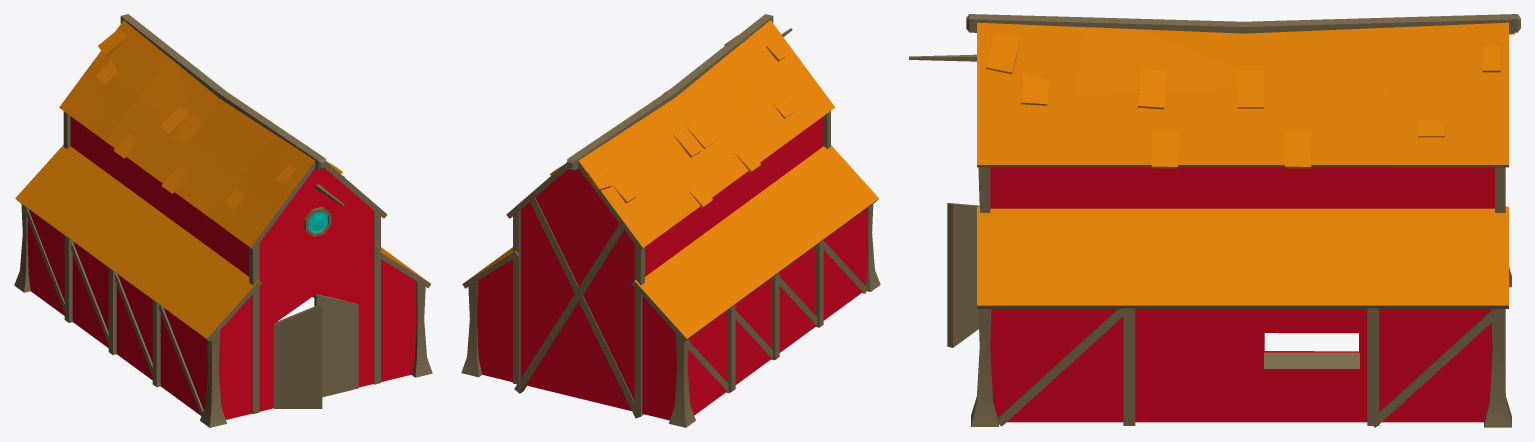
The model's file is BigBoatHouse_FBX_02.fbx.
3 views of the same model, side by side, from view 1: azimuth 30°, elevation 25°; view 2: azimuth 150°, elevation 25°; view 3: azimuth 270°, elevation 25° (orthographic). The views are drawn at different scales.
Visible parts, largest first — view 1: Intact_BoatHouse, polySurface101, polySurface102, polySurface96, polySurface99, polySurface98, polySurface103, polySurface63, polySurface73, polySurface100, polySurface75, polySurface97 (+13 smaller); view 2: Intact_BoatHouse, polySurface60, polySurface75, polySurface101, polySurface96, polySurface102, polySurface57, polySurface107, polySurface99, polySurface73, polySurface98, polySurface103 (+11 smaller); view 3: Intact_BoatHouse, polySurface87, polySurface93, polySurface91, polySurface95, polySurface71, polySurface89, polySurface92, polySurface85, polySurface90, polySurface88, polySurface86 (+9 smaller).
Boxes of the visible parts, x1,y1,x2,y2 form: Intact_BoatHouse: (14,14,432,427); polySurface101: (191,98,275,180); polySurface102: (155,138,239,217); polySurface96: (59,60,138,140); polySurface99: (105,96,181,177); polySurface98: (240,135,315,212); polySurface103: (139,57,219,128); polySurface63: (260,169,342,295); polySurface73: (28,211,75,315); polySurface100: (210,181,282,249); polySurface75: (72,243,140,352); polySurface97: (94,21,168,95); Intact_BoatHouse: (461,14,880,427); polySurface60: (548,168,634,281); polySurface75: (735,258,800,384); polySurface101: (674,52,765,133); polySurface96: (603,170,688,249); polySurface102: (708,99,793,177); polySurface57: (559,265,634,410); polySurface107: (683,225,804,304); polySurface99: (654,141,738,214); polySurface73: (687,310,727,415); polySurface98: (732,20,809,98); polySurface103: (624,98,696,169); Intact_BoatHouse: (909,14,1520,427); polySurface87: (1221,208,1404,308); polySurface93: (1074,27,1242,95); polySurface91: (1389,81,1508,167); polySurface95: (1243,84,1395,167); polySurface71: (1041,309,1229,422); polySurface89: (1243,27,1388,87); polySurface92: (1064,88,1242,167); polySurface85: (1397,208,1508,308); polySurface90: (1385,23,1508,84); polySurface88: (977,96,1073,167); polySurface86: (1048,208,1240,308).
Bounding box in the file's own units: 8.82 × 9.42 × 15.01.
